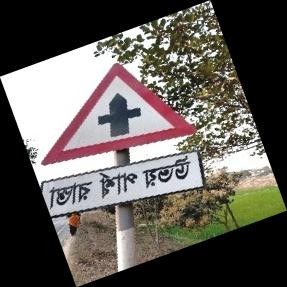Crossroad: (39, 62, 199, 272)
